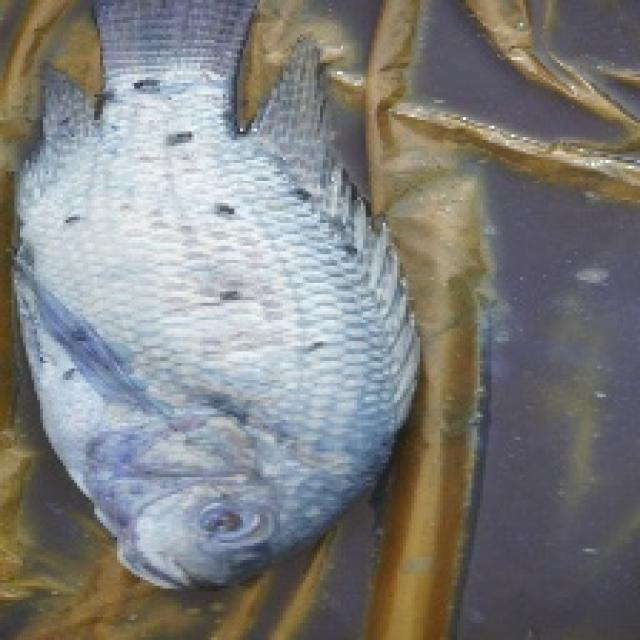Non-Fresh: (27, 33, 400, 589), (198, 484, 271, 562)
